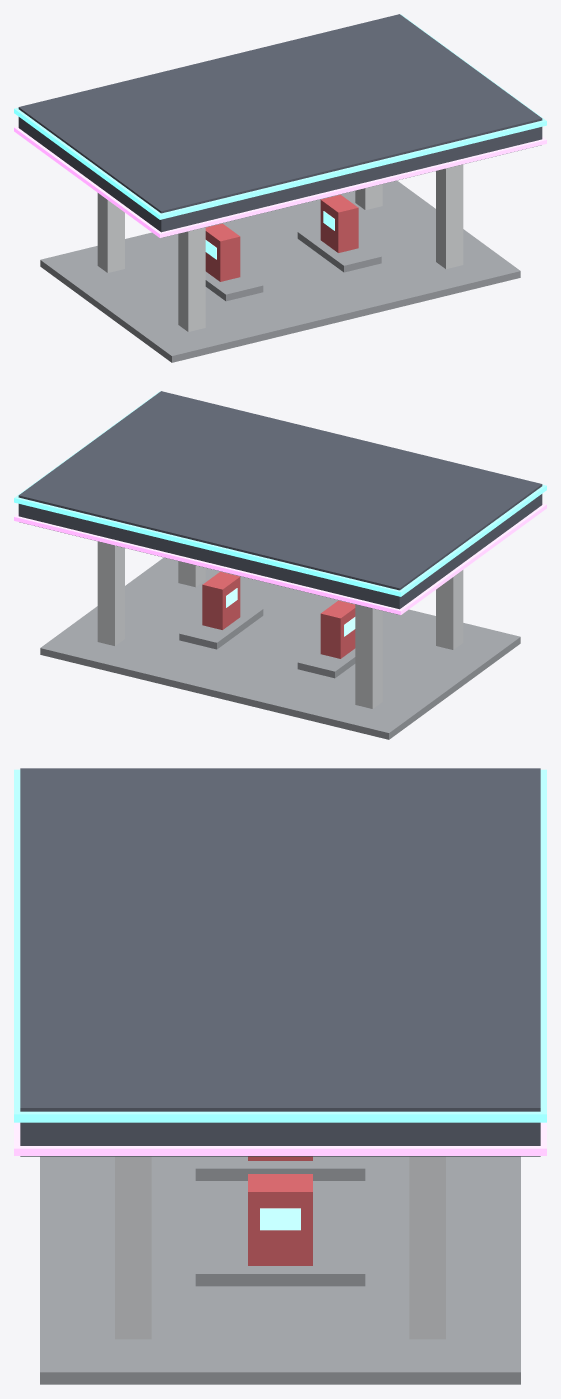
The model's file is gas_station.glb.
3 views of the same model, one above another, from view 1: azimuth 30°, elevation 25°; view 2: azimuth 150°, elevation 25°; view 3: azimuth 270°, elevation 25° (orthographic). The views are drawn at different scales.
Parts seen in each view (by area): view 1: CanopyRoof, IslandPad, CanopyNeonTop, CanopyNeonBot, Pillar_4.8_-2.6, Pillar_-4.8_-2.6, Pillar_-4.8_2.6, PumpBody_2.2, PumpBody_-2.2, PumpBase_2.2, PumpBase_-2.2, Pillar_4.8_2.6; view 2: CanopyRoof, IslandPad, CanopyNeonTop, CanopyNeonBot, Pillar_4.8_2.6, Pillar_-4.8_2.6, Pillar_-4.8_-2.6, PumpBody_2.2, PumpBody_-2.2, PumpBase_2.2, PumpBase_-2.2, Pillar_4.8_-2.6; view 3: CanopyRoof, IslandPad, CanopyNeonTop, Pillar_4.8_2.6, Pillar_4.8_-2.6, PumpBase_2.2, CanopyNeonBot, PumpBody_2.2, PumpBase_-2.2, PumpScreen_2.2.
Part boxes in pixels (x1,y1,x2,y2): CanopyRoof: (18, 14, 542, 237); IslandPad: (40, 180, 520, 362); CanopyNeonTop: (14, 14, 546, 219); CanopyNeonBot: (14, 126, 546, 237); Pillar_4.8_-2.6: (436, 164, 463, 268); Pillar_-4.8_-2.6: (178, 227, 205, 331); Pillar_-4.8_2.6: (97, 193, 124, 272); PumpBody_2.2: (320, 194, 358, 252); PumpBody_-2.2: (205, 223, 240, 281); PumpBase_2.2: (297, 226, 381, 272); PumpBase_-2.2: (205, 269, 263, 301); Pillar_4.8_2.6: (355, 184, 382, 210); CanopyRoof: (18, 391, 542, 614); IslandPad: (40, 557, 520, 739); CanopyNeonTop: (14, 391, 546, 596); CanopyNeonBot: (14, 503, 546, 614); Pillar_4.8_2.6: (97, 541, 124, 645); Pillar_-4.8_2.6: (355, 604, 382, 708); Pillar_-4.8_-2.6: (436, 570, 463, 649); PumpBody_2.2: (202, 571, 240, 629); PumpBody_-2.2: (320, 600, 355, 658); PumpBase_2.2: (179, 603, 263, 649); PumpBase_-2.2: (297, 646, 355, 678); Pillar_4.8_-2.6: (178, 561, 205, 587); CanopyRoof: (20, 768, 540, 1156); IslandPad: (40, 1156, 520, 1384); CanopyNeonTop: (14, 769, 546, 1122); Pillar_4.8_2.6: (409, 1156, 445, 1339); Pillar_4.8_-2.6: (115, 1156, 151, 1339); PumpBase_2.2: (195, 1240, 365, 1286); CanopyNeonBot: (14, 1122, 546, 1155); PumpBody_2.2: (248, 1174, 312, 1265); PumpBase_-2.2: (195, 1156, 365, 1180); PumpScreen_2.2: (260, 1208, 300, 1230).
Size of the model in its own units: 14.42 by 5.67 by 9.42.
